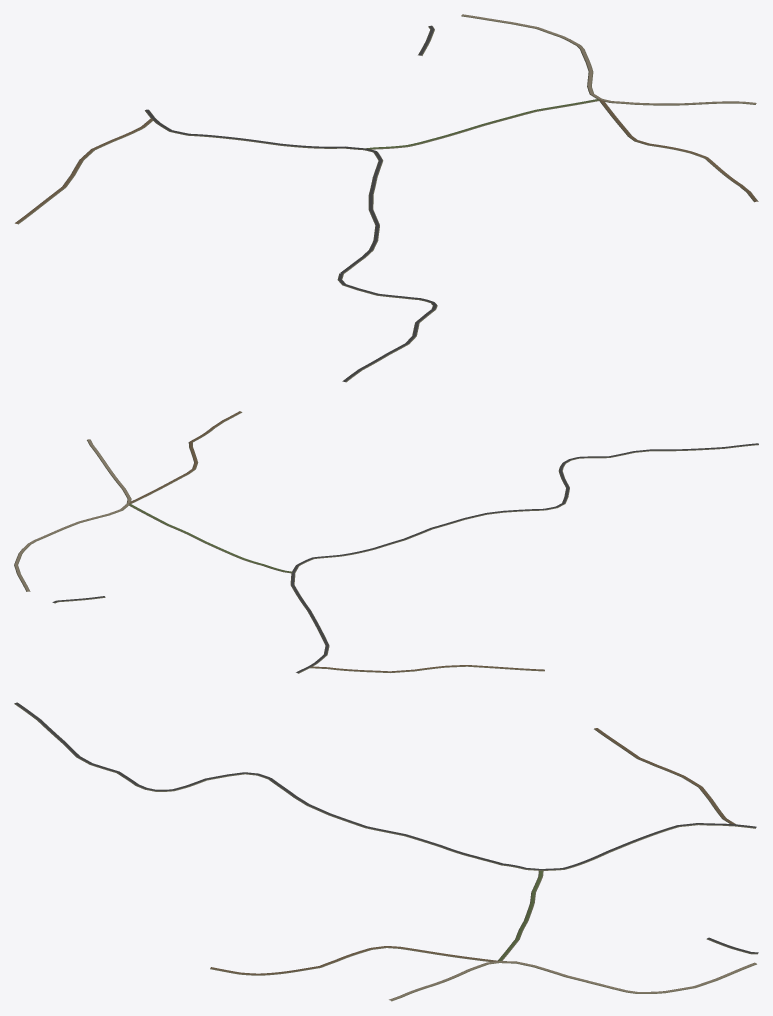
3 views of the same model, one above another, from view 1: azimuth 30°, elevation 25°; view 2: azimuth 150°, elevation 25°; view 3: azimuth 270°, elevation 25° (orthographic). The views are drawn at different scales.
Visible parts, largest first — view 1: roads; view 2: roads; view 3: roads.
Part boxes in pixels (x1,y1,x2,y2): roads: [15, 14, 758, 382]; roads: [14, 411, 758, 673]; roads: [14, 702, 758, 1001].
Bounding box in the file's own units: 799 × 53.23 × 803.
